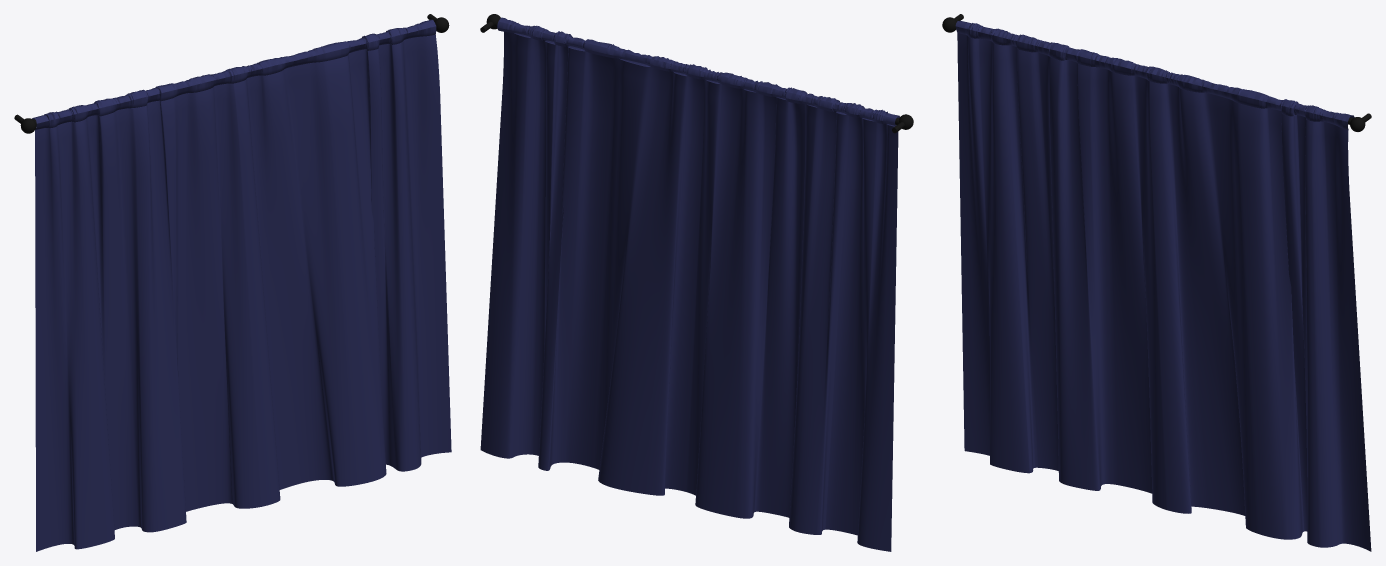
The model's file is curtain.fbx.
The picture shows the model from 3 angles, left to right: view 1: azimuth 30°, elevation 25°; view 2: azimuth 150°, elevation 25°; view 3: azimuth 330°, elevation 25°; orthographic projection.
Parts seen in each view (by area): view 1: loftedSurface1; view 2: loftedSurface1; view 3: loftedSurface1.
Part boxes in pixels (x1,y1,x2,y2): loftedSurface1: (32, 19, 451, 551); loftedSurface1: (480, 17, 899, 551); loftedSurface1: (955, 20, 1371, 551).
Size of the model in its own units: 22.5 by 21.83 by 1.81.
